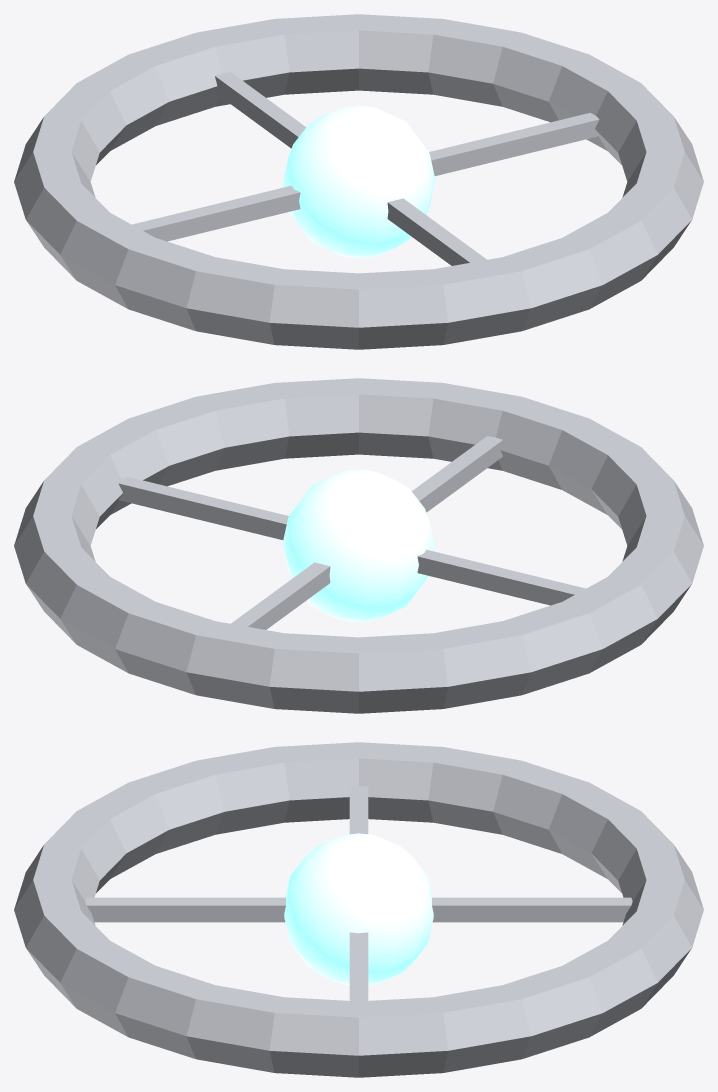
The model's file is station.glb.
3 renders of one model, top to bottom at view 1: azimuth 30°, elevation 25°; view 2: azimuth 150°, elevation 25°; view 3: azimuth 270°, elevation 25°, orthographic.
Parts seen in each view (by area): view 1: station; view 2: station; view 3: station.
Boxes of the visible parts, x1=… form: station: x1=14, y1=14, x2=703, y2=349; station: x1=14, y1=378, x2=703, y2=713; station: x1=14, y1=742, x2=703, y2=1077.
Bounding box in the file's own units: 4.5 × 1 × 4.5.
